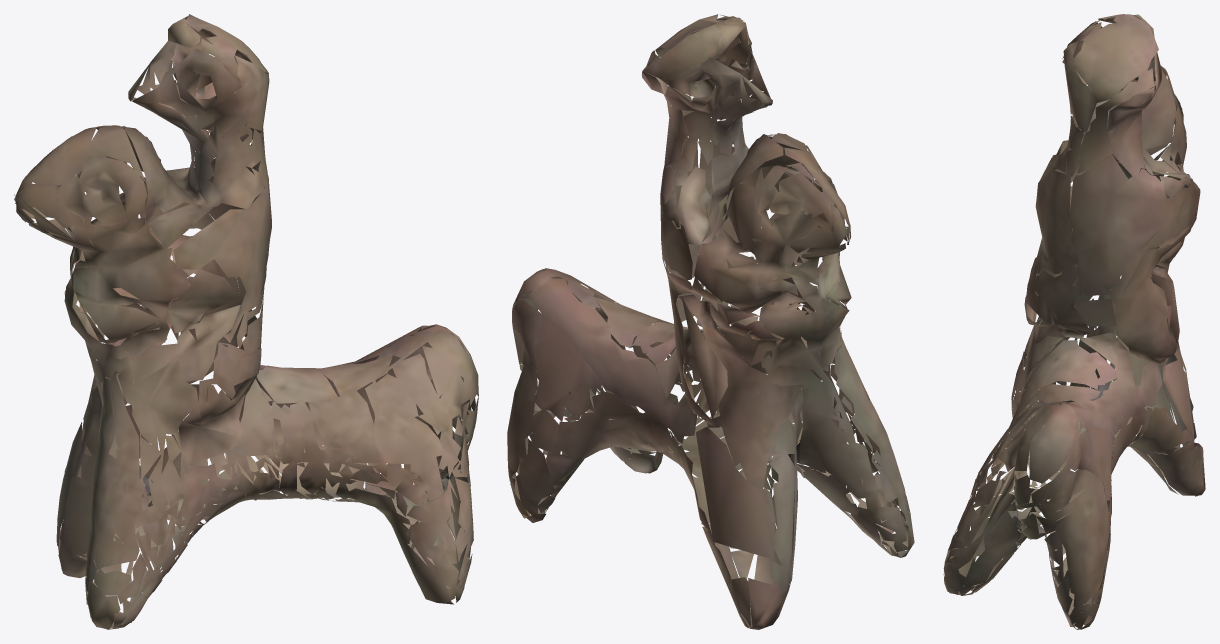
The model's file is hm-syro-hittite-horse-rider.lod1.glb.
3 views of the same model, side by side, from view 1: azimuth 30°, elevation 25°; view 2: azimuth 150°, elevation 25°; view 3: azimuth 270°, elevation 25° (orthographic). The views are drawn at different scales.
Visible parts, largest first — view 1: Object_2, Object_10, Object_3, Object_4, Object_11, Object_9, Object_12, Object_15, Object_6, Object_5, Object_8, Object_13 (+3 smaller); view 2: Object_12, Object_8, Object_13, Object_15, Object_3, Object_4, Object_7, Object_11, Object_5, Object_6, Object_16, Object_14 (+3 smaller); view 3: Object_9, Object_2, Object_13, Object_6, Object_8, Object_11, Object_4, Object_7, Object_12, Object_15, Object_3, Object_10 (+3 smaller).
Boxes of the visible parts, x1,y1,x2,y2 form: Object_2: (85, 330, 478, 622); Object_10: (55, 37, 469, 603); Object_3: (86, 346, 478, 602); Object_4: (66, 259, 478, 602); Object_11: (14, 48, 467, 629); Object_9: (16, 129, 470, 613); Object_12: (16, 40, 456, 604); Object_15: (78, 186, 455, 487); Object_6: (58, 355, 473, 600); Object_5: (91, 327, 473, 628); Object_8: (56, 296, 471, 629); Object_13: (15, 14, 472, 597); Object_12: (610, 16, 849, 473); Object_8: (511, 239, 910, 626); Object_13: (623, 14, 849, 473); Object_15: (568, 141, 898, 554); Object_3: (519, 278, 909, 532); Object_4: (513, 270, 900, 607); Object_7: (509, 269, 907, 629); Object_11: (510, 22, 914, 557); Object_5: (509, 278, 908, 548); Object_6: (526, 297, 906, 628); Object_16: (570, 213, 819, 559); Object_14: (643, 17, 848, 418); Object_9: (970, 89, 1197, 546); Object_2: (970, 264, 1140, 606); Object_13: (944, 14, 1189, 595); Object_6: (948, 295, 1204, 585); Object_8: (964, 257, 1205, 629); Object_11: (962, 21, 1196, 629); Object_4: (943, 192, 1178, 625); Object_7: (955, 276, 1205, 613); Object_12: (947, 41, 1200, 595); Object_15: (995, 158, 1186, 539); Object_3: (943, 271, 1145, 594); Object_10: (972, 68, 1184, 545).
Size of the model in its own units: 0.0559 by 0.077 by 0.0351.
Materials: 1 (1 with a texture image).
